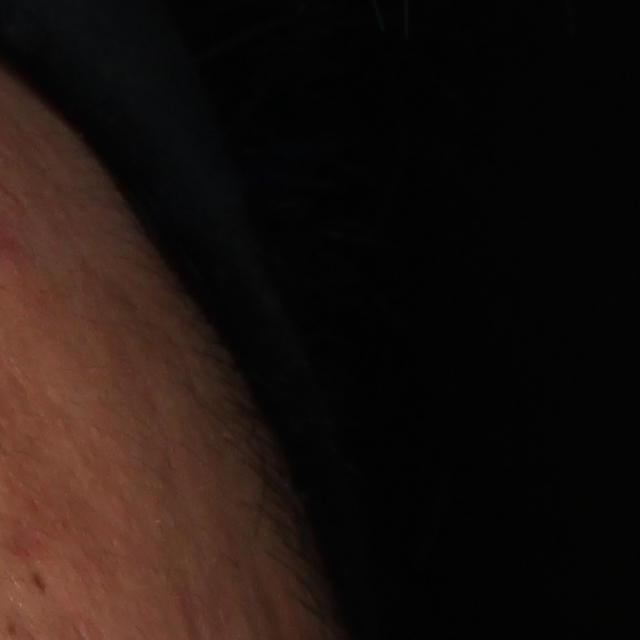nevus: (31, 571, 52, 597)
